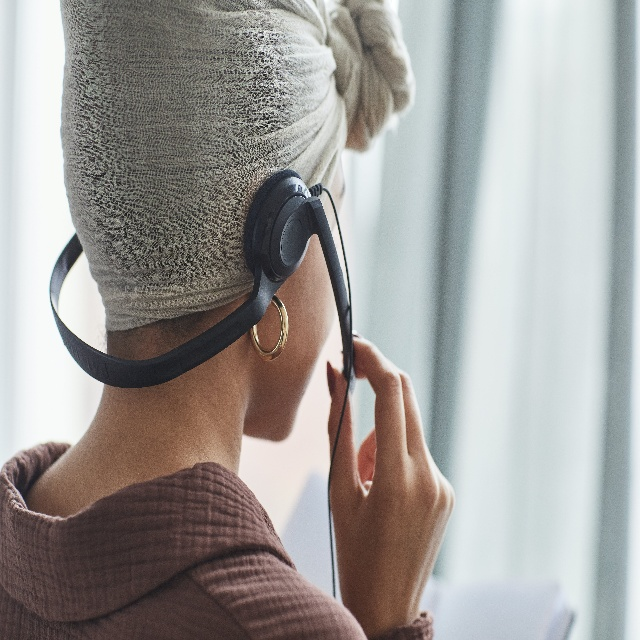Sin_guantes: (326, 328, 456, 636)
